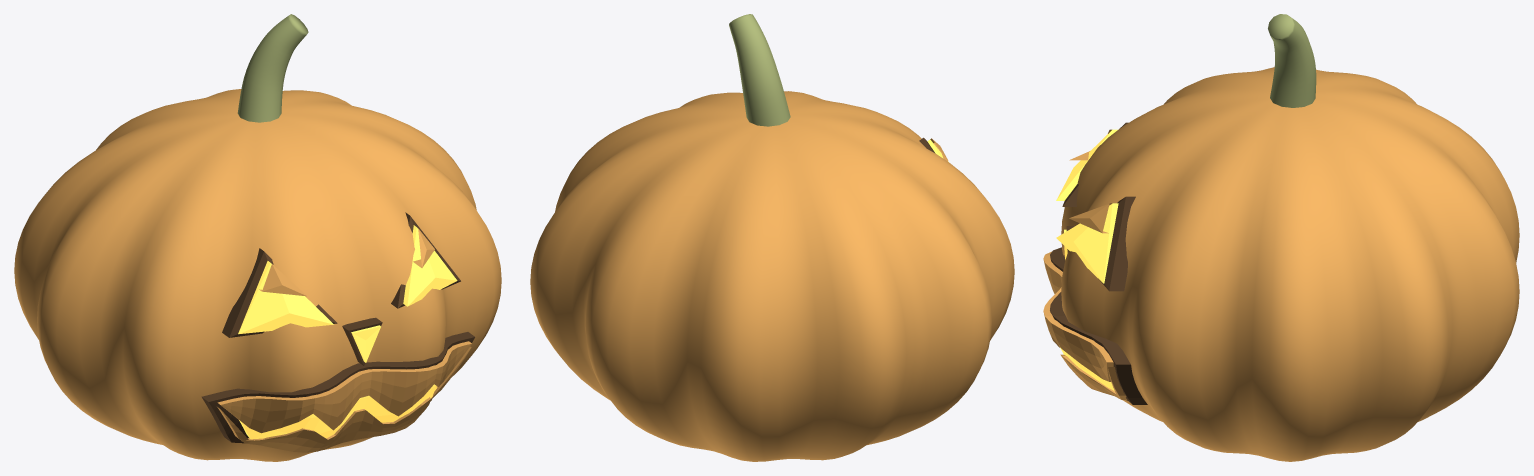
The model's file is pumpkin_v1.glb.
3 views of the same model, side by side, from view 1: azimuth 30°, elevation 25°; view 2: azimuth 150°, elevation 25°; view 3: azimuth 270°, elevation 25° (orthographic). The views are drawn at different scales.
Visible parts, largest first — view 1: pumpkin_body, mouth_upper, stem, mouth_jaw, mouth_socket, emissive_eye_left, emissive_mouth, emissive_eye_right, eye_left_socket, eye_left_lid, emissive_nose, nose_socket (+1 smaller); view 2: pumpkin_body, stem; view 3: pumpkin_body, stem, mouth_upper, emissive_eye_right, mouth_socket, eye_right_socket, mouth_jaw, eye_right_lid, emissive_eye_left.
Part boxes in pixels (<box>): pumpkin_body: <box>14,89,501,461</box>; mouth_upper: <box>217,341,471,433</box>; stem: <box>237,14,308,122</box>; mouth_jaw: <box>217,346,471,452</box>; mouth_socket: <box>201,332,474,443</box>; emissive_eye_left: <box>238,261,333,334</box>; emissive_mouth: <box>239,384,436,439</box>; emissive_eye_right: <box>403,225,457,306</box>; eye_left_socket: <box>222,248,337,337</box>; eye_left_lid: <box>259,263,306,296</box>; emissive_nose: <box>351,325,380,362</box>; nose_socket: <box>342,317,382,365</box>; pumpkin_body: <box>530,91,1014,461</box>; stem: <box>729,14,790,126</box>; pumpkin_body: <box>1061,67,1519,461</box>; stem: <box>1268,14,1316,107</box>; mouth_upper: <box>1043,251,1113,381</box>; emissive_eye_right: <box>1056,203,1118,283</box>; mouth_socket: <box>1050,247,1147,404</box>; eye_right_socket: <box>1098,196,1135,291</box>; mouth_jaw: <box>1060,354,1127,399</box>; eye_right_lid: <box>1069,203,1112,233</box>; emissive_eye_left: <box>1056,129,1117,200</box>.
Size of the model in its own units: 1.07 by 0.9404 by 0.9793.
